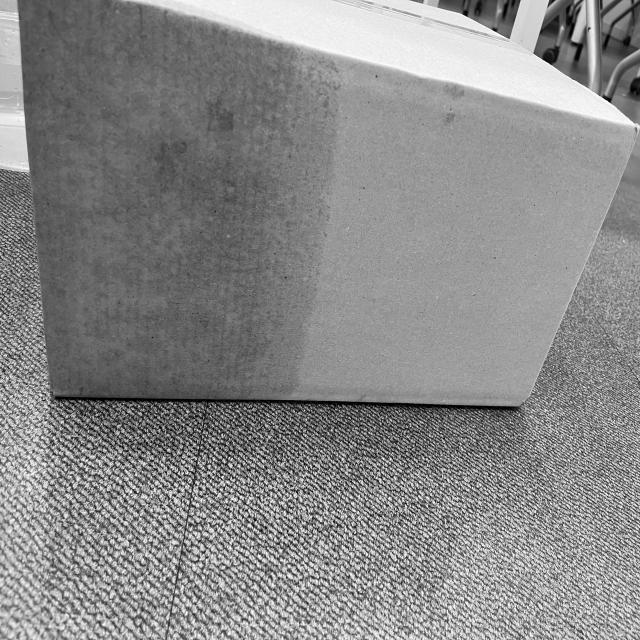wet: (23, 1, 341, 453)
